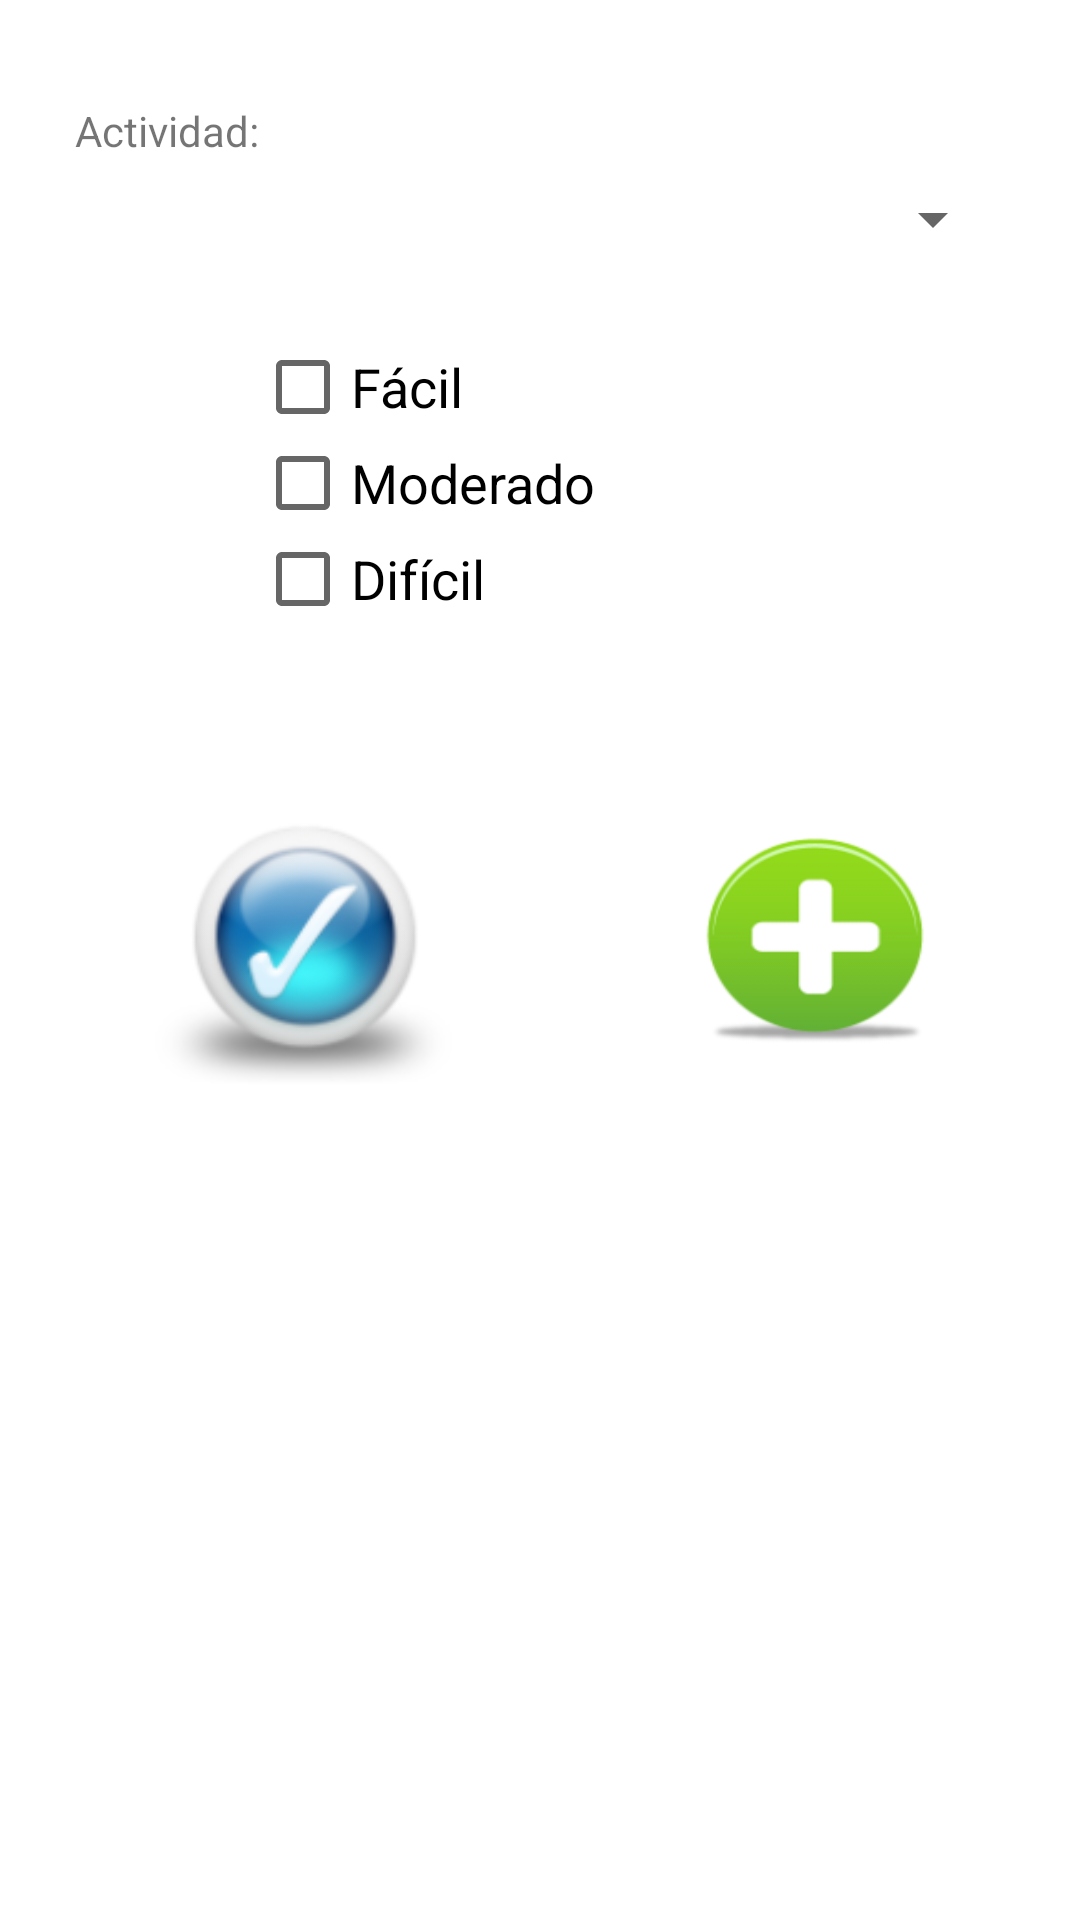

Point at icon controls on the screen. Image size 1080px x 1920px, points as (x,y).
accept: (304,959)
add: (815,938)
